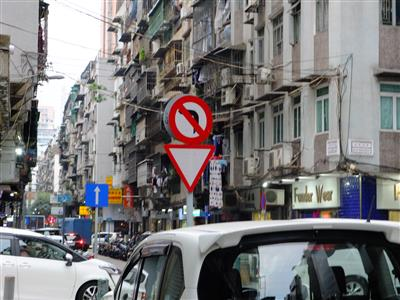noLeftTurn: (163, 91, 213, 144)
oneway: (83, 180, 109, 209)
yield: (160, 141, 219, 193)
